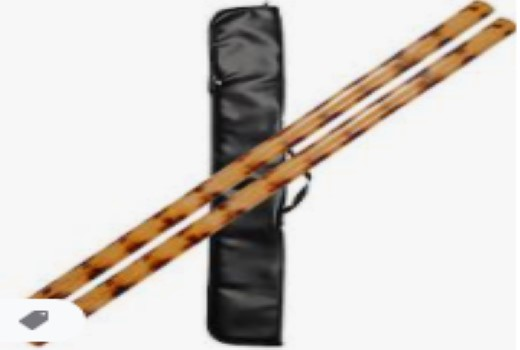baston_e: (128, 44, 501, 330), (90, 7, 453, 261)
baston_v: (69, 290, 109, 331), (18, 281, 69, 305), (487, 10, 517, 49), (452, 1, 492, 18)
